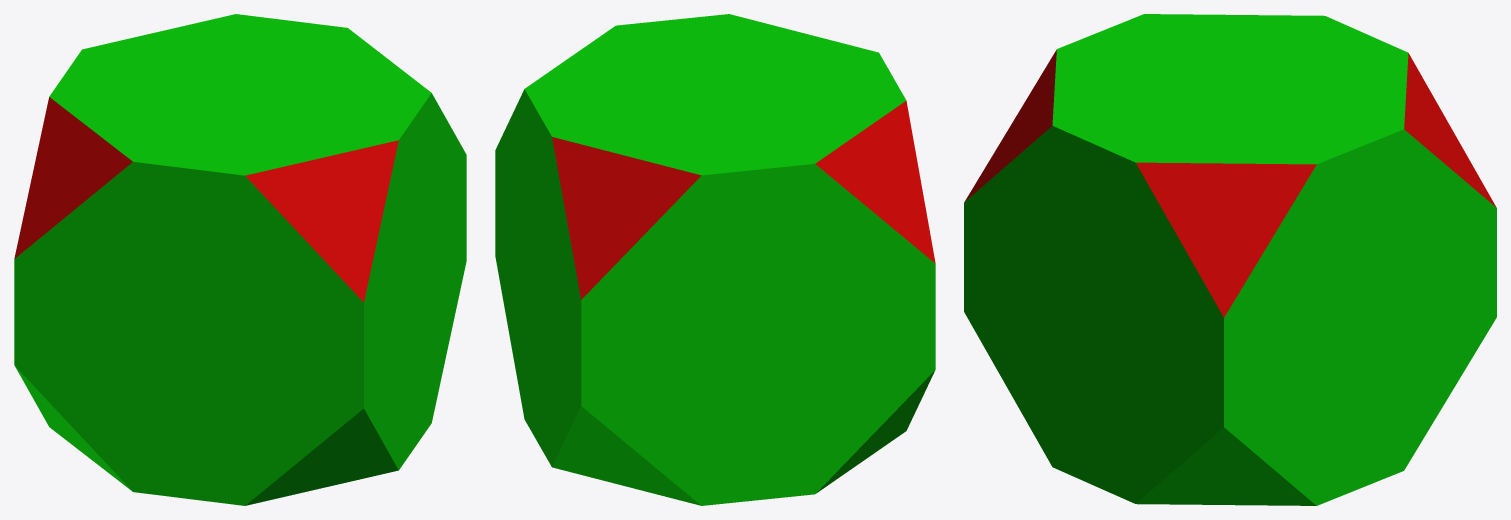
File: anim_cube_000057.obj
The picture shows the model from 3 angles, left to right: view 1: azimuth 30°, elevation 25°; view 2: azimuth 150°, elevation 25°; view 3: azimuth 270°, elevation 25°; orthographic projection. The views are drawn at different scales.
Visible parts, largest first — view 1: Cube_Cube.002_Material.002, Cube_Cube.002_Material.001; view 2: Cube_Cube.002_Material.002, Cube_Cube.002_Material.001; view 3: Cube_Cube.002_Material.002, Cube_Cube.002_Material.001.
Boxes of the visible parts, x1=… form: Cube_Cube.002_Material.002: x1=14, y1=14, x2=466, y2=505; Cube_Cube.002_Material.001: x1=14, y1=97, x2=398, y2=302; Cube_Cube.002_Material.002: x1=495, y1=14, x2=935, y2=505; Cube_Cube.002_Material.001: x1=552, y1=100, x2=935, y2=299; Cube_Cube.002_Material.002: x1=964, y1=14, x2=1496, y2=505; Cube_Cube.002_Material.001: x1=964, y1=49, x2=1496, y2=317.
Size of the model in its own units: 4.38 by 3.09 by 4.38.
